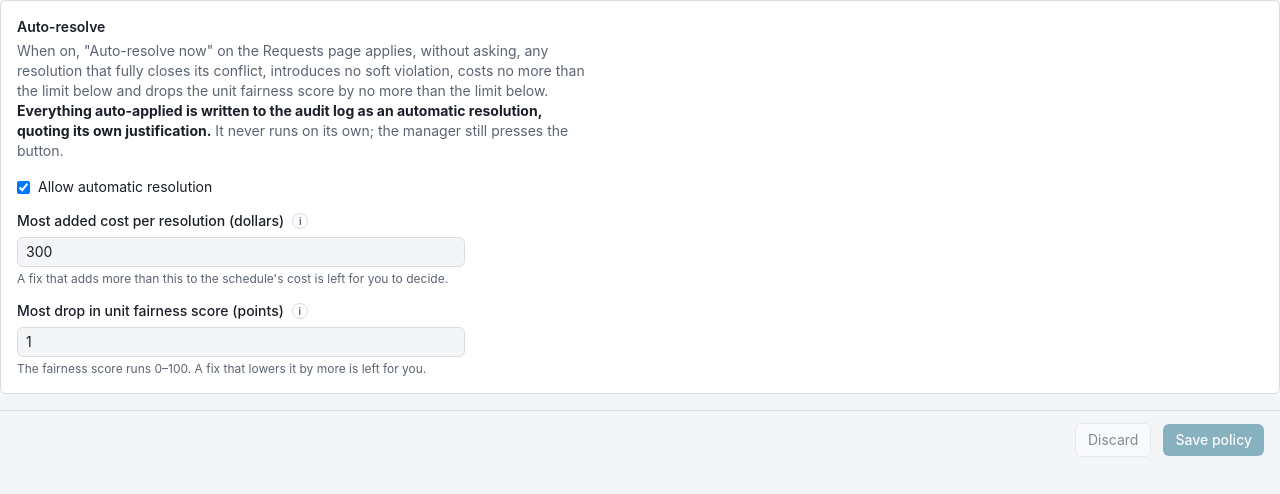
Test: Settings › Conflicts › does not save a cleared cost limit as zero
Clear the number field labelled "Most added cost per resolution (dollars)" at (241, 252), box [17,237,465,267]
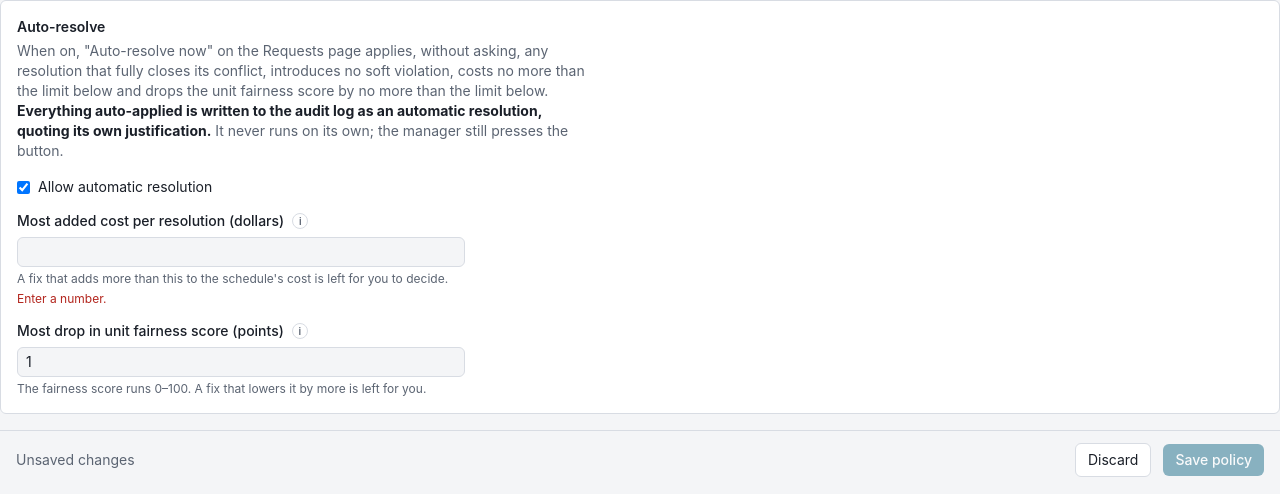
Expected: the button "Save policy" is disabled, [1164,444,1264,476]
Now the text "Enter a number." is shown, box [17,291,106,306]
